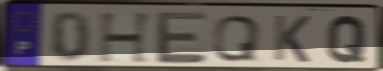0: (50, 10, 94, 64)
E: (154, 10, 208, 66)
H: (97, 11, 157, 65)
K: (272, 13, 313, 65)
Q: (210, 14, 263, 63), (325, 14, 369, 65)
